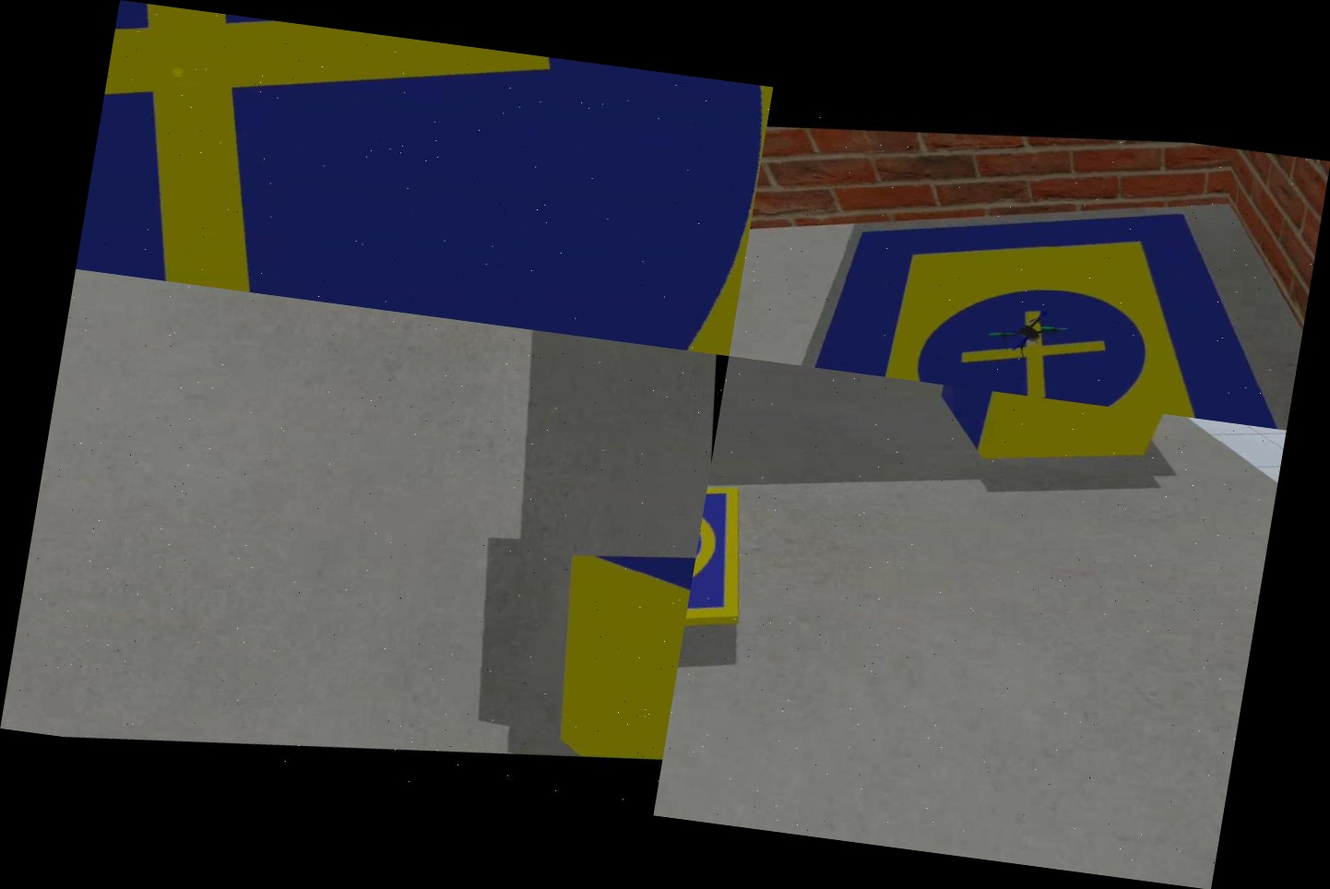large_base: (76, 0, 773, 356), (729, 141, 1321, 431)
